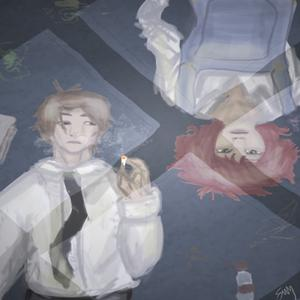cigarette: (121, 154, 128, 169)
